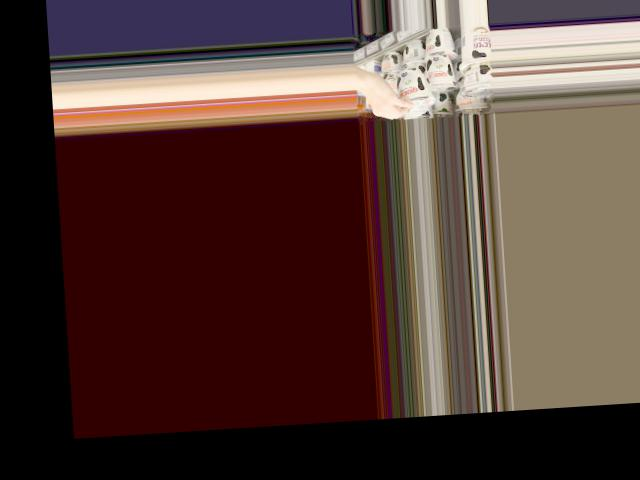cotage: (397, 68, 435, 107)
